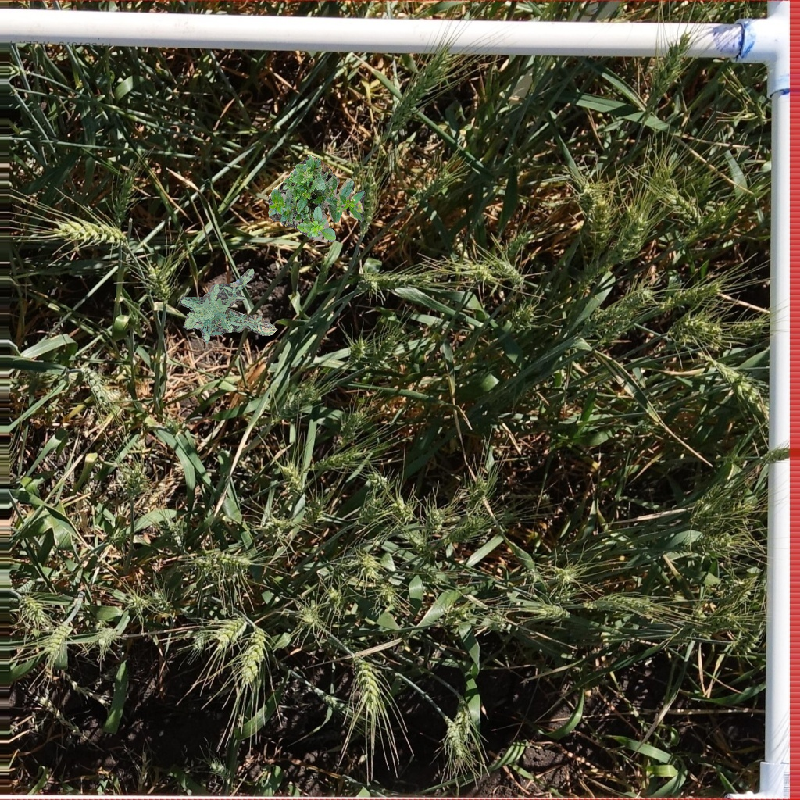spikelet: (383, 44, 453, 136), (712, 361, 776, 425), (648, 32, 690, 117), (588, 284, 655, 336), (348, 649, 388, 716), (52, 217, 130, 248), (660, 179, 707, 229), (685, 201, 737, 246), (614, 202, 652, 263), (77, 362, 125, 407), (405, 166, 455, 209), (236, 623, 271, 684), (268, 379, 317, 422), (666, 311, 720, 347), (687, 527, 747, 558), (192, 547, 250, 579), (587, 589, 657, 615), (361, 268, 450, 288), (313, 443, 372, 471), (669, 279, 732, 305), (693, 476, 731, 517), (465, 467, 492, 523), (726, 311, 773, 343), (212, 611, 250, 648), (335, 404, 372, 442), (443, 715, 473, 761), (41, 617, 74, 658), (446, 513, 489, 543), (142, 260, 173, 301), (368, 332, 399, 373), (16, 592, 52, 625), (116, 462, 148, 498), (455, 258, 496, 284), (354, 494, 386, 527), (277, 459, 308, 493), (505, 301, 538, 332), (753, 445, 796, 468), (141, 587, 174, 616), (503, 227, 535, 256), (296, 598, 324, 626), (549, 561, 581, 584)
weed: (259, 155, 367, 254), (173, 263, 277, 356)
